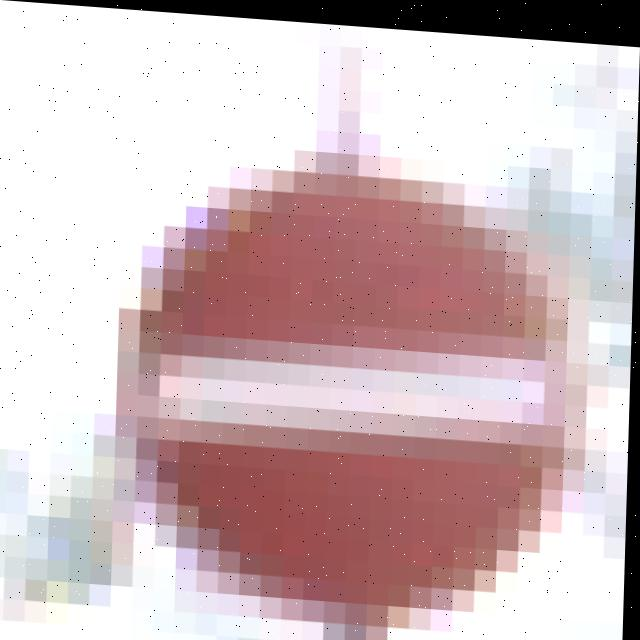road_rough: (130, 129, 598, 627)
